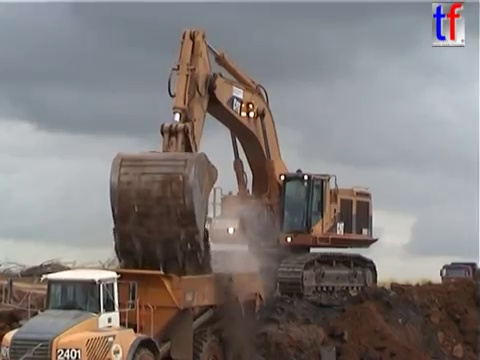excavator: (106, 24, 381, 308)
truck: (1, 263, 268, 360), (438, 261, 480, 297)
